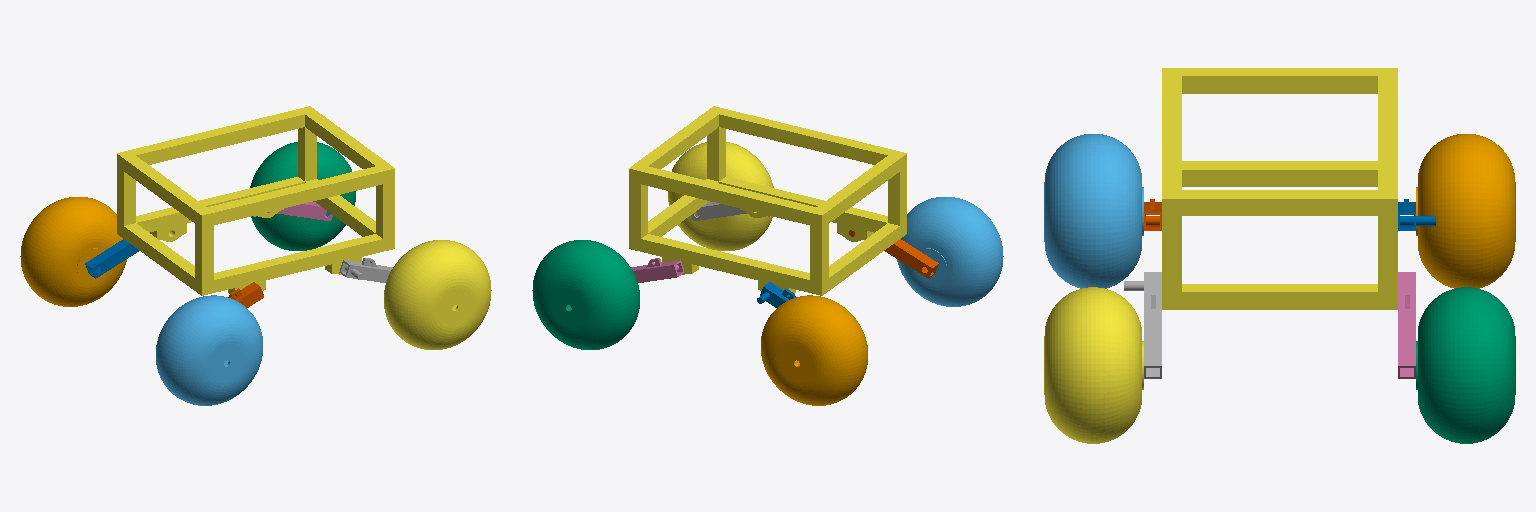
The robot description file, URDF, robot "TARS_V2":
<?xml version="1.0"?>
<!-- created with Phobos 0.8 -->
  <robot name="TARS_V2">

    <link name="link_camera_back">
    </link>

    <link name="link_camera_depth">
    </link>

    <link name="link_camera_front">
    </link>

    <link name="link_chassis">
      <inertial>
        <origin xyz="0 0 0.19608" rpy="0 0 0"/>
        <mass value="30.0"/>
        <inertia ixx="0.79449" ixy="0" ixz="0" iyy="1.21074" iyz="0" izz="1.56825"/>
      </inertial>
      <visual name="visual_chassis">
        <origin xyz="0 0 0" rpy="0 0 0"/>
        <geometry>
          <mesh filename="package://simulator/models/rover/meshes/stl/TARS.V2.Chassis.stl" scale="0.001 0.001 0.001"/>
        </geometry>
      </visual>
      <collision name="collision_chassis">
        <origin xyz="0 0 0.19608" rpy="0 0 0"/>
        <geometry>
          <box size="0.63 0.48 0.29562"/>
        </geometry>
      </collision>
    </link>

    <link name="link_suspension_backleft">
      <inertial>
        <origin xyz="-0.12007 -0.01981 -0.04013" rpy="0 0 0"/>
        <mass value="0.75"/>
        <inertia ixx="0.00147" ixy="0" ixz="0" iyy="0.00598" iyz="0" izz="0.00469"/>
      </inertial>
      <visual name="visual_suspension_backleft">
        <origin xyz="0 0 0" rpy="0 0 -3.14159"/>
        <geometry>
          <mesh filename="package://simulator/models/rover/meshes/stl/TARS.V2.Suspension.001.stl" scale="0.001 0.001 0.001"/>
        </geometry>
      </visual>
      <collision name="collision_suspension_backleft">
        <origin xyz="-0.12007 -0.01981 -0.04013" rpy="0 0 0"/>
        <geometry>
          <box size="0.27135 0.0381 0.14844"/>
        </geometry>
      </collision>
    </link>

    <link name="link_suspension_backright">
      <inertial>
        <origin xyz="-0.12007 0.02019 -0.04013" rpy="0 0 0"/>
        <mass value="0.75"/>
        <inertia ixx="0.00147" ixy="0" ixz="0" iyy="0.00598" iyz="0" izz="0.00469"/>
      </inertial>
      <visual name="visual_suspension_backright">
        <origin xyz="0 0 0" rpy="0 0 -3.14159"/>
        <geometry>
          <mesh filename="package://simulator/models/rover/meshes/stl/TARS.V2.Suspension.001.stl" scale="0.001 0.001 0.001"/>
        </geometry>
      </visual>
      <collision name="collision_suspension_backright">
        <origin xyz="-0.12007 0.02019 -0.04013" rpy="0 0 0"/>
        <geometry>
          <box size="0.27135 0.0381 0.14844"/>
        </geometry>
      </collision>
    </link>

    <link name="link_suspension_frontleft">
      <inertial>
        <origin xyz="0.12007 -0.02019 -0.04013" rpy="0 0 0"/>
        <mass value="0.75"/>
        <inertia ixx="0.00147" ixy="0" ixz="0" iyy="0.00598" iyz="0" izz="0.00469"/>
      </inertial>
      <visual name="visual_suspension_frontleft">
        <origin xyz="0 0 0" rpy="0 0 0"/>
        <geometry>
          <mesh filename="package://simulator/models/rover/meshes/stl/TARS.V2.Suspension.001.stl" scale="0.001 0.001 0.001"/>
        </geometry>
      </visual>
      <collision name="collision_suspension_frontleft">
        <origin xyz="0.12007 -0.02019 -0.04013" rpy="0 0 0"/>
        <geometry>
          <box size="0.27135 0.0381 0.14844"/>
        </geometry>
      </collision>
    </link>

    <link name="link_suspension_frontright">
      <inertial>
        <origin xyz="0.12007 0.01981 -0.04013" rpy="0 0 0"/>
        <mass value="0.75"/>
        <inertia ixx="0.00147" ixy="0" ixz="0" iyy="0.00598" iyz="0" izz="0.00469"/>
      </inertial>
      <visual name="visual_suspension_frontright">
        <origin xyz="0 0 0" rpy="0 0 0"/>
        <geometry>
          <mesh filename="package://simulator/models/rover/meshes/stl/TARS.V2.Suspension.001.stl" scale="0.001 0.001 0.001"/>
        </geometry>
      </visual>
      <collision name="collision_suspension_frontright">
        <origin xyz="0.12007 0.01981 -0.04013" rpy="0 0 0"/>
        <geometry>
          <box size="0.27134 0.0381 0.14845"/>
        </geometry>
      </collision>
    </link>

    <link name="link_wheel_backleft">
      <inertial>
        <origin xyz="0 0.10244 0" rpy="0 0 0"/>
        <mass value="1.5"/>
        <inertia ixx="0.01534" ixy="0" ixz="0" iyy="0.01534" iyz="0" izz="0.01534"/>
      </inertial>
      <visual name="visual_wheel_backleft">
        <origin xyz="0 0 0" rpy="0 0 0"/>
        <geometry>
          <mesh filename="package://simulator/models/rover/meshes/stl/TARS.V2.Wheel.001.stl" scale="0.001 0.001 0.001"/>
        </geometry>
      </visual>
      <collision name="collision_wheel_backleft">
        <origin xyz="0 0.10244 0" rpy="0 0 0"/>
        <geometry>
          <sphere radius="0.15989"/>
        </geometry>
      </collision>
    </link>

    <link name="link_wheel_backright">
      <inertial>
        <origin xyz="0 -0.10254 0" rpy="0 0 0"/>
        <mass value="1.5"/>
        <inertia ixx="0.01534" ixy="0" ixz="0" iyy="0.01534" iyz="0" izz="0.01534"/>
      </inertial>
      <visual name="visual_wheel_backright">
        <origin xyz="0 0 0" rpy="0 0 -3.14159"/>
        <geometry>
          <mesh filename="package://simulator/models/rover/meshes/stl/TARS.V2.Wheel.001.stl" scale="0.001 0.001 0.001"/>
        </geometry>
      </visual>
      <collision name="collision_wheel_backright">
        <origin xyz="0 -0.10254 0" rpy="0 0 0"/>
        <geometry>
          <sphere radius="0.15989"/>
        </geometry>
      </collision>
    </link>

    <link name="link_wheel_frontleft">
      <inertial>
        <origin xyz="0 0.10244 0" rpy="0 0 0"/>
        <mass value="1.5"/>
        <inertia ixx="0.01534" ixy="0" ixz="0" iyy="0.01534" iyz="0" izz="0.01534"/>
      </inertial>
      <visual name="visual_wheel_frontleft">
        <origin xyz="0 0 0" rpy="0 0 0"/>
        <geometry>
          <mesh filename="package://simulator/models/rover/meshes/stl/TARS.V2.Wheel.001.stl" scale="0.001 0.001 0.001"/>
        </geometry>
      </visual>
      <collision name="collision_wheel_frontleft">
        <origin xyz="0 0.10244 0" rpy="0 0 0"/>
        <geometry>
          <sphere radius="0.15989"/>
        </geometry>
      </collision>
    </link>

    <link name="link_wheel_frontright">
      <inertial>
        <origin xyz="0 -0.10264 0" rpy="0 0 0"/>
        <mass value="1.5"/>
        <inertia ixx="0.01534" ixy="0" ixz="0" iyy="0.01534" iyz="0" izz="0.01534"/>
      </inertial>
      <visual name="visual_wheel_frontright">
        <origin xyz="0 0 0" rpy="0 0 -3.14159"/>
        <geometry>
          <mesh filename="package://simulator/models/rover/meshes/stl/TARS.V2.Wheel.001.stl" scale="0.001 0.001 0.001"/>
        </geometry>
      </visual>
      <collision name="collision_wheel_frontright">
        <origin xyz="0 -0.10264 0" rpy="0 0 0"/>
        <geometry>
          <sphere radius="0.15989"/>
        </geometry>
      </collision>
    </link>

    <joint name="link_camera_back" type="fixed">
      <origin xyz="-0.315 1e-05 0.3439" rpy="3.14159 1.5708 0"/>
      <parent link="link_chassis"/>
      <child link="link_camera_back"/>
    </joint>

    <joint name="link_camera_depth" type="fixed">
      <origin xyz="0.315 1e-05 0.3439" rpy="0 1.5708 0"/>
      <parent link="link_chassis"/>
      <child link="link_camera_depth"/>
    </joint>

    <joint name="link_camera_front" type="fixed">
      <origin xyz="0.315 -0.11999 0.3439" rpy="0 1.5708 0"/>
      <parent link="link_chassis"/>
      <child link="link_camera_front"/>
    </joint>

    <joint name="link_suspension_backleft" type="fixed">
      <origin xyz="-0.15754 0.25888 0.07402" rpy="0 0 0"/>
      <parent link="link_chassis"/>
      <child link="link_suspension_backleft"/>
    </joint>

    <joint name="link_suspension_backright" type="fixed">
      <origin xyz="-0.15754 -0.25922 0.07402" rpy="0 0 0"/>
      <parent link="link_chassis"/>
      <child link="link_suspension_backright"/>
    </joint>

    <joint name="link_suspension_frontleft" type="fixed">
      <origin xyz="0.15754 0.25925 0.07402" rpy="0 0 0"/>
      <parent link="link_chassis"/>
      <child link="link_suspension_frontleft"/>
    </joint>

    <joint name="link_suspension_frontright" type="fixed">
      <origin xyz="0.15755 -0.25885 0.07403" rpy="0 0 0"/>
      <parent link="link_chassis"/>
      <child link="link_suspension_frontright"/>
    </joint>

    <joint name="link_wheel_backleft" type="continuous">
      <axis xyz="0 1 0" rpy="0 0 0"/>
      <origin xyz="-0.21346 0.01924 -0.08012" rpy="0 0 0"/>
      <parent link="link_suspension_backleft"/>
      <child link="link_wheel_backleft"/>
    </joint>

    <joint name="link_wheel_backright" type="continuous">
      <axis xyz="0 1 0" rpy="0 0 0"/>
      <origin xyz="-0.21346 -0.01886 -0.08012" rpy="0 0 0"/>
      <parent link="link_suspension_backright"/>
      <child link="link_wheel_backright"/>
    </joint>

    <joint name="link_wheel_frontleft" type="continuous">
      <axis xyz="0 1 0" rpy="0 0 0"/>
      <origin xyz="0.21346 0.01886 -0.08012" rpy="0 0 0"/>
      <parent link="link_suspension_frontleft"/>
      <child link="link_wheel_frontleft"/>
    </joint>

    <joint name="link_wheel_frontright" type="continuous">
      <axis xyz="0 1 0" rpy="0 0 0"/>
      <origin xyz="0.21345 -0.01924 -0.08014" rpy="0 0 0"/>
      <parent link="link_suspension_frontright"/>
      <child link="link_wheel_frontright"/>
    </joint>

  </robot>

--- Facts derived from the render (not from the file) ---
Views: 3 orthographic renders of the robot side by side, from view 1: azimuth 30°, elevation 25°; view 2: azimuth 150°, elevation 25°; view 3: azimuth 270°, elevation 25°.
Model TARS_V2 with 12 links and 11 joints (4 continuous, 7 fixed), rooted at link_chassis, posed all joints at 0.
Links seen in each view (by area): view 1: link_chassis, link_wheel_frontright, link_wheel_backright, link_wheel_backleft, link_wheel_frontleft, link_suspension_backleft, link_suspension_frontright, link_suspension_frontleft; view 2: link_chassis, link_wheel_frontleft, link_wheel_backleft, link_wheel_backright, link_wheel_frontright, link_suspension_backright, link_suspension_frontleft, link_suspension_frontright, link_suspension_backleft; view 3: link_chassis, link_wheel_frontleft, link_wheel_frontright, link_wheel_backright, link_wheel_backleft, link_suspension_frontright, link_suspension_frontleft, link_suspension_backleft.
Link boxes in pixels (box(x1,y1,x2,y2)): link_chassis: box(117, 106, 394, 295); link_wheel_frontright: box(384, 240, 491, 349); link_wheel_backright: box(156, 295, 262, 405); link_wheel_backleft: box(20, 197, 126, 306); link_wheel_frontleft: box(250, 142, 355, 250); link_suspension_backleft: box(85, 239, 139, 278); link_suspension_frontright: box(339, 258, 392, 282); link_suspension_frontleft: box(267, 202, 332, 220); link_chassis: box(629, 106, 906, 295); link_wheel_frontleft: box(532, 240, 639, 349); link_wheel_backleft: box(761, 295, 867, 405); link_wheel_backright: box(897, 197, 1003, 306); link_wheel_frontright: box(668, 142, 773, 250); link_suspension_backright: box(849, 230, 938, 278); link_suspension_frontleft: box(631, 258, 684, 282); link_suspension_frontright: box(691, 202, 746, 220); link_suspension_backleft: box(757, 282, 795, 307); link_chassis: box(1162, 68, 1397, 309); link_wheel_frontleft: box(1416, 287, 1515, 443); link_wheel_frontright: box(1044, 287, 1143, 443); link_wheel_backright: box(1044, 134, 1143, 288); link_wheel_backleft: box(1416, 134, 1515, 288); link_suspension_frontright: box(1124, 272, 1161, 378); link_suspension_frontleft: box(1398, 272, 1415, 378); link_suspension_backleft: box(1398, 199, 1435, 230).
Size in the robot's own frame: 1.06 by 0.9613 by 0.5098 metres.
Meshes: 3 distinct files referenced, 9 mesh visuals loaded (3 binary STL).